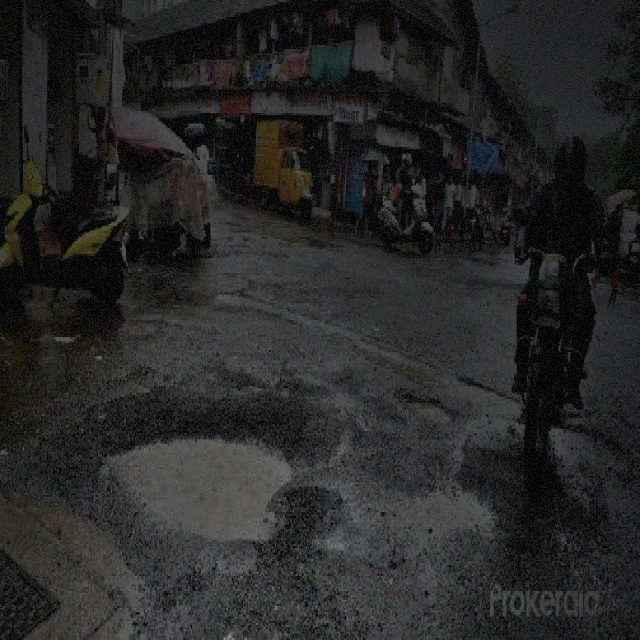pothole: (98, 390, 304, 540), (399, 386, 457, 425)
